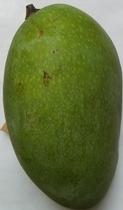Unripe: (1, 1, 123, 210)
